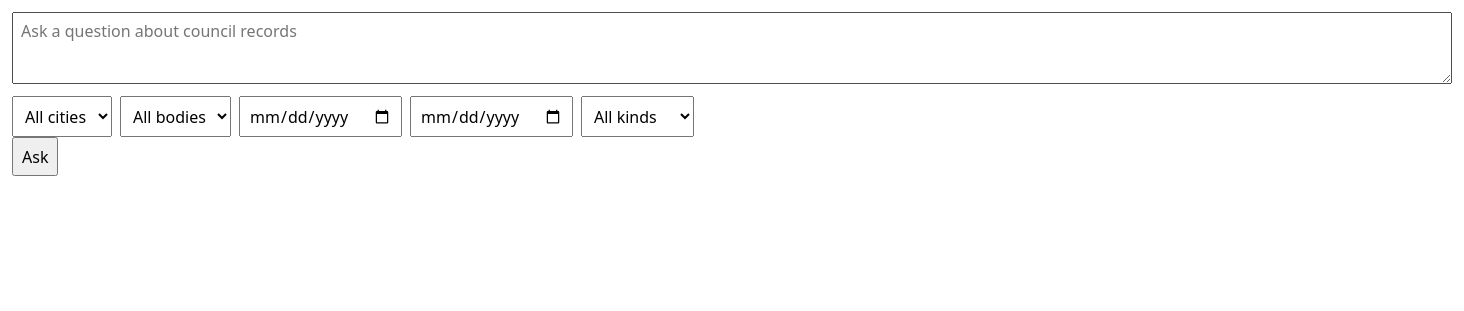
Scenario: renders the citation list with city, body, date, kind, and label
Type "How did they vote?" into the text box with test id "ask-input" at (732, 48), box [12,12,1452,84]
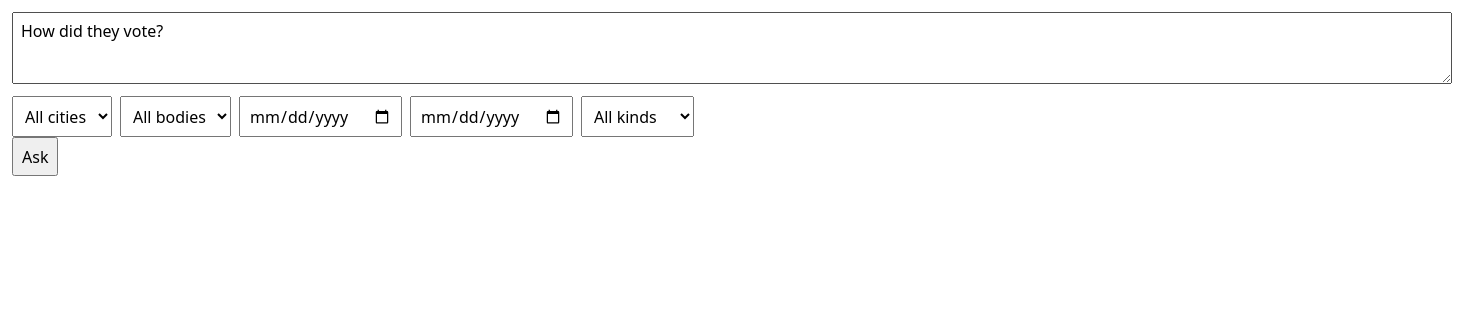
Click the button with test id "ask-submit" at (35, 157), box [12,137,58,176]
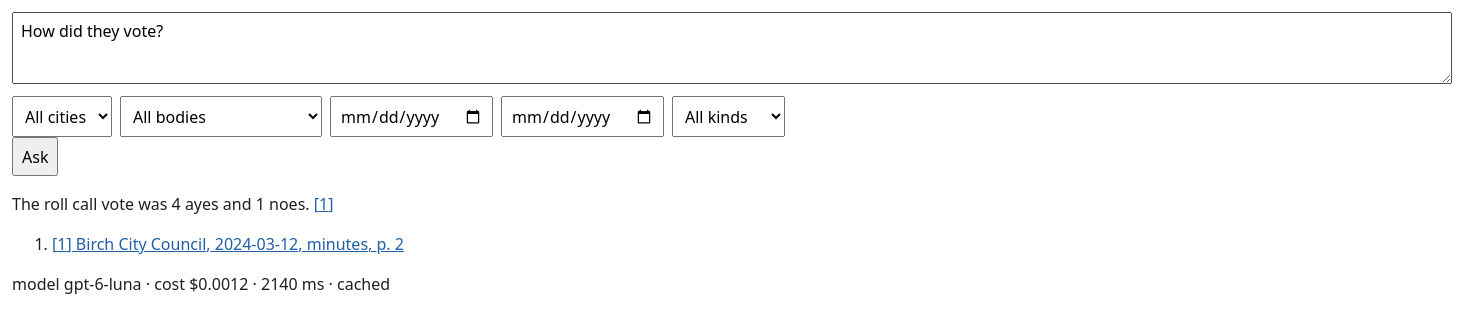
Check: the link with test id "citation-1" reads "[1] Birch City Council, 2024-03-12, minutes, p. 2", box [52,233,404,255]
